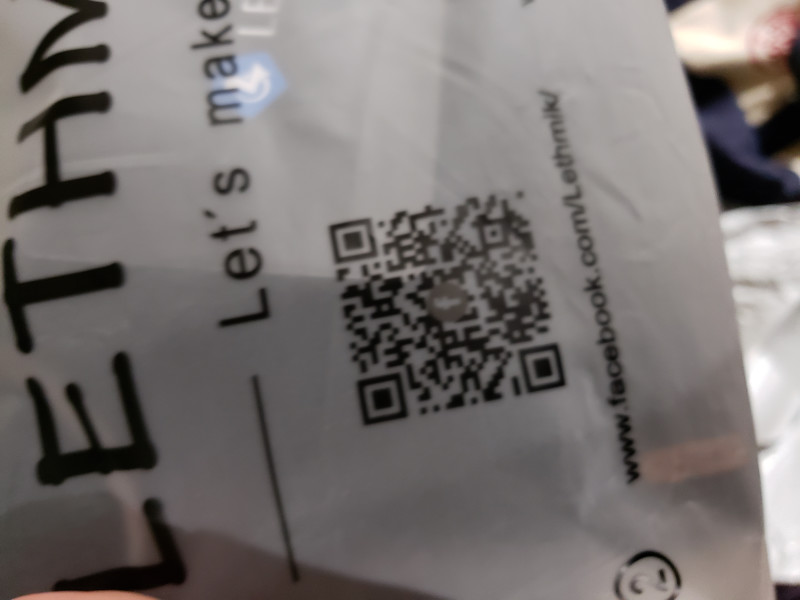QR_CODE: (312, 177, 584, 434)
